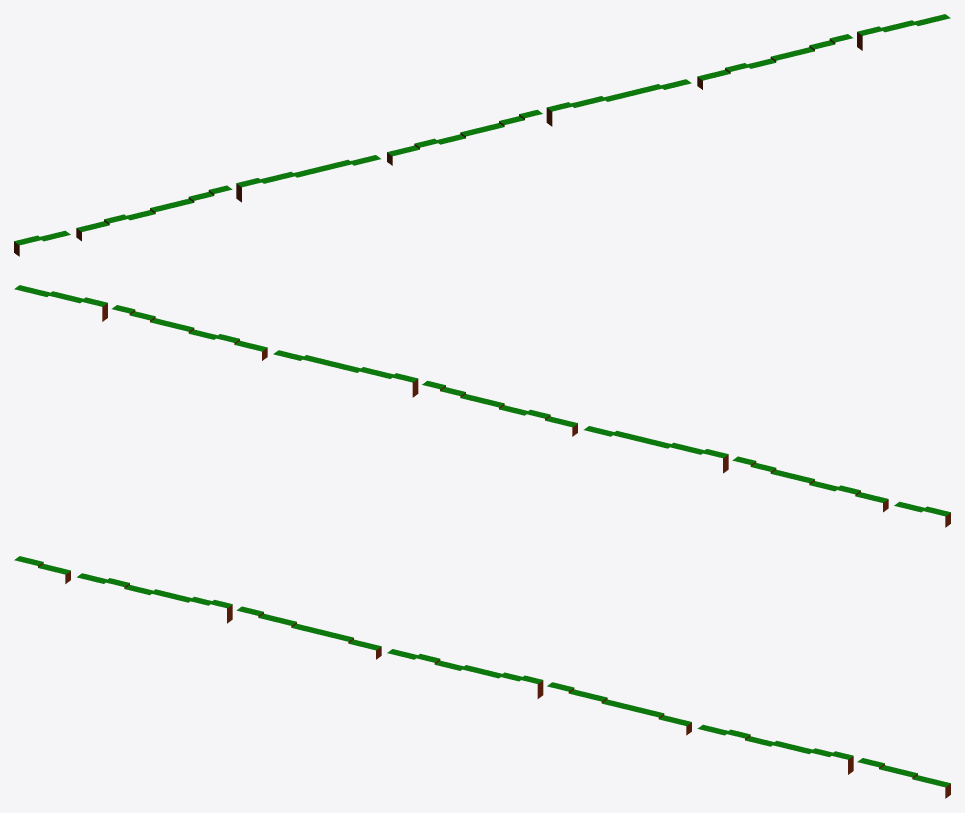
The model's file is LunaSolo.glb.
3 renders of one model, top to bottom at view 1: azimuth 30°, elevation 25°; view 2: azimuth 150°, elevation 25°; view 3: azimuth 330°, elevation 25°, orthographic.
Size of the model in its own units: 527 by 8.32 by 5.6.
1 material, 1 textured.
